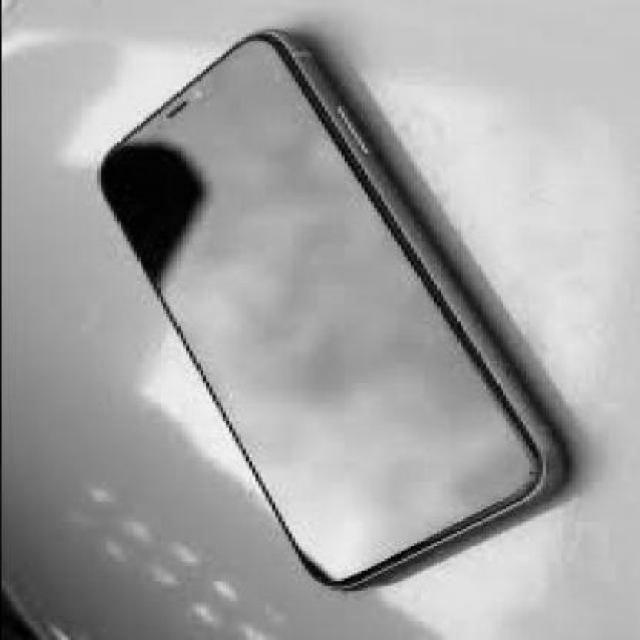fake: (99, 30, 567, 593)
